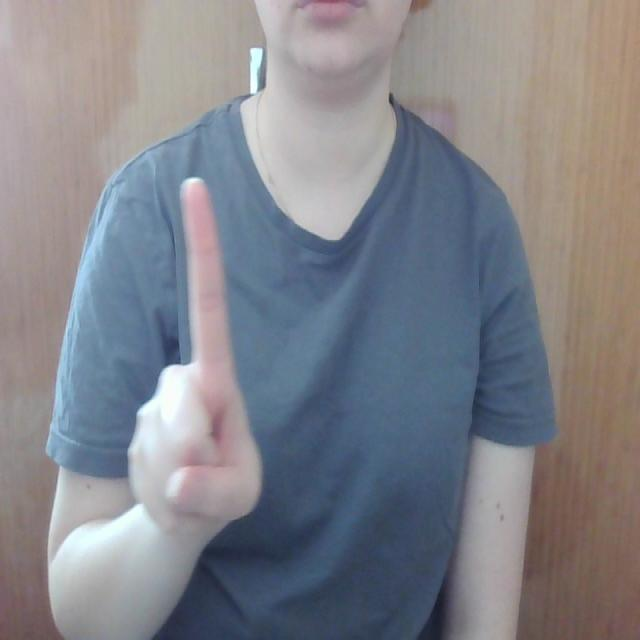Hayir: (127, 149, 284, 552)
